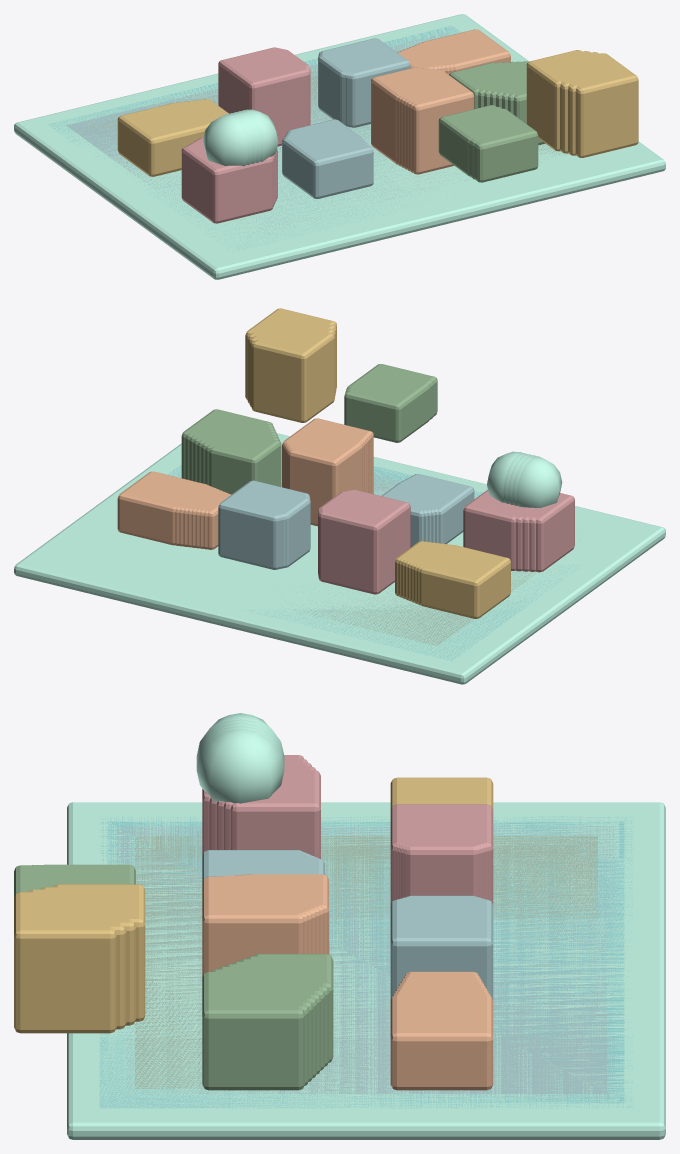
The model's file is Gear06.fbx.
The picture shows the model from 3 angles, top to bottom: view 1: azimuth 30°, elevation 25°; view 2: azimuth 150°, elevation 25°; view 3: azimuth 270°, elevation 25°; orthographic projection. The views are drawn at different scales.
Visible parts, largest first — view 1: Gear06_V10_Glow, Gear06_V9_Glow, Gear06_V10_Rose, Gear06_V10_Gold, Gear06_V10_Blue, Gear06_V10_Apricot, Gear06_V10_Leaf, Gear06_V5_Blue, Gear06_V7_Gold, Gear06_V8_Leaf, Gear06_V8_Glow, Gear06_V4_Apricot (+26 smaller); view 2: Gear06_V10_Glow, Gear06_V8_Glow, Gear06_V10_Rose, Gear06_V10_Gold, Gear06_V7_Gold, Gear06_V9_Glow, Gear06_V10_Blue, Gear06_V10_Apricot, Gear06_V8_Leaf, Gear06_V4_Apricot, Gear06_V10_Leaf, Gear06_V7_Aqua (+22 smaller); view 3: Gear06_V9_Glow, Gear06_V10_Glow, Gear06_V6_Aqua, Gear06_V4_Blue, Gear06_V3_Sage, Gear06_V10_Gold, Gear06_V10_Apricot, Gear06_V10_Leaf, Gear06_V8_Glow, Gear06_V5_Blue, Gear06_V7_Aqua, Gear06_V1_Sage (+32 smaller).
Part boxes in pixels (x1,y1,x2,y2): Gear06_V10_Glow: (14, 14, 665, 279); Gear06_V9_Glow: (28, 18, 651, 260); Gear06_V10_Rose: (181, 47, 309, 223); Gear06_V10_Gold: (117, 53, 638, 176); Gear06_V10_Blue: (282, 38, 410, 198); Gear06_V10_Apricot: (392, 29, 510, 174); Gear06_V10_Leaf: (451, 64, 545, 182); Gear06_V5_Blue: (66, 33, 457, 243); Gear06_V7_Gold: (140, 50, 599, 151); Gear06_V8_Leaf: (438, 61, 528, 176); Gear06_V8_Glow: (57, 22, 642, 237); Gear06_V4_Apricot: (371, 39, 467, 164); Gear06_V10_Glow: (14, 433, 665, 684); Gear06_V8_Glow: (41, 454, 641, 665); Gear06_V10_Rose: (318, 489, 574, 594); Gear06_V10_Gold: (245, 308, 510, 618); Gear06_V7_Gold: (251, 323, 464, 602); Gear06_V9_Glow: (33, 437, 648, 668); Gear06_V10_Blue: (218, 474, 474, 569); Gear06_V10_Apricot: (117, 418, 373, 545); Gear06_V8_Leaf: (189, 373, 429, 480); Gear06_V4_Apricot: (170, 432, 362, 548); Gear06_V10_Leaf: (181, 364, 437, 479); Gear06_V7_Aqua: (168, 443, 580, 660); Gear06_V9_Glow: (82, 719, 650, 1117); Gear06_V10_Glow: (67, 713, 665, 1139); Gear06_V6_Aqua: (108, 821, 624, 1103); Gear06_V4_Blue: (126, 831, 606, 1093); Gear06_V3_Sage: (135, 836, 597, 1088); Gear06_V10_Gold: (14, 777, 493, 1033); Gear06_V10_Apricot: (202, 876, 493, 1090); Gear06_V10_Leaf: (14, 865, 304, 1090); Gear06_V8_Glow: (90, 722, 641, 1112); Gear06_V5_Blue: (117, 826, 615, 1098); Gear06_V7_Aqua: (99, 816, 633, 1108); Gear06_V1_Sage: (152, 845, 580, 1079).
Size of the model in its own units: 122 by 31 by 104.
